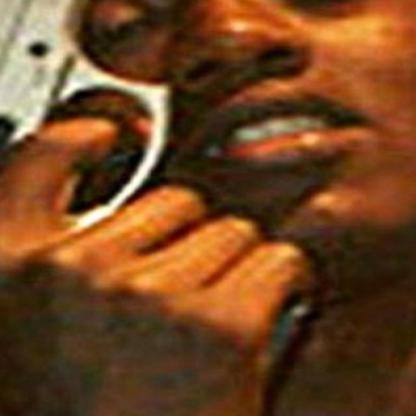gun: (0, 0, 308, 399)
